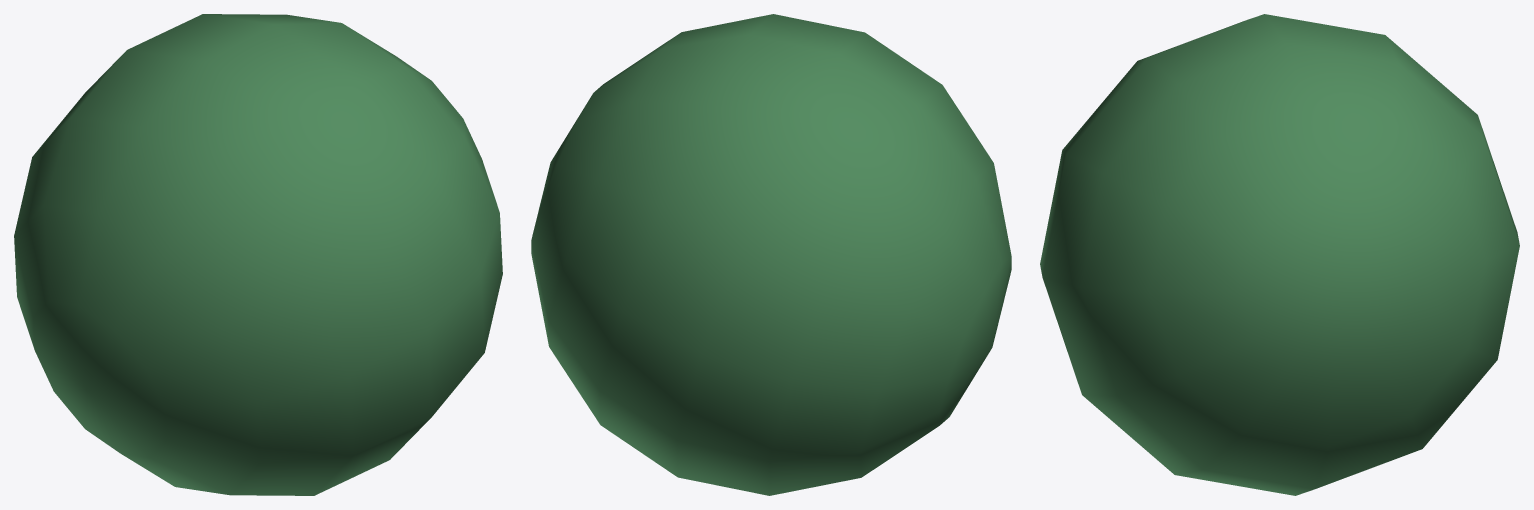
The picture shows the model from 3 angles, left to right: view 1: azimuth 30°, elevation 25°; view 2: azimuth 150°, elevation 25°; view 3: azimuth 270°, elevation 25°; orthographic projection. The views are drawn at different scales.
Visible parts, largest first — view 1: 左侧胫后淋巴结; view 2: 左侧胫后淋巴结; view 3: 左侧胫后淋巴结.
Part boxes in pixels (bbox=[...]): 左侧胫后淋巴结: bbox=[14, 14, 502, 495]; 左侧胫后淋巴结: bbox=[531, 14, 1011, 495]; 左侧胫后淋巴结: bbox=[1040, 14, 1519, 495].
Size of the model in its own units: 0.00382 by 0.00381 by 0.00377.
